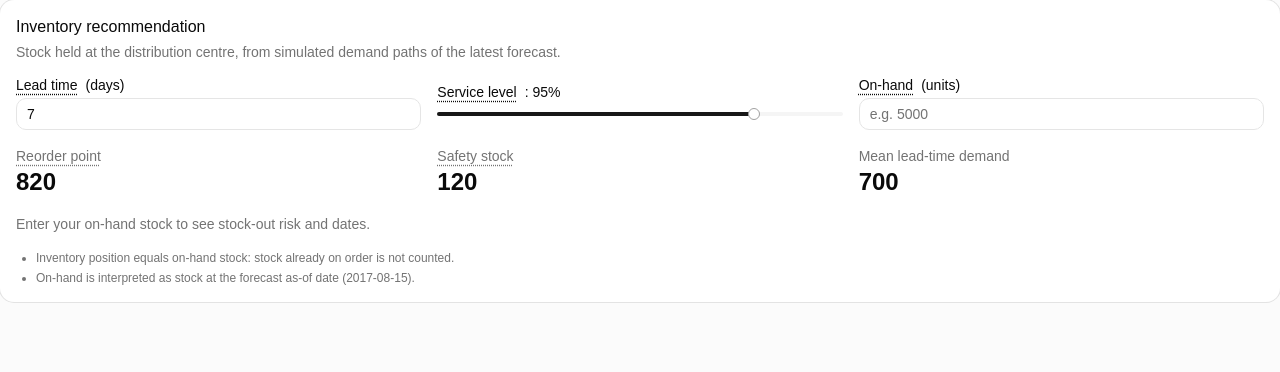
Test: InventoryPanel › requests risk once on-hand is entered and shows risk level, reorder-now and stock-out dates
Check: the text "820" is shown, box [16,168,56,195]
Type "300" into the number field labelled "On-hand (units)" at (1061, 114), box [859,98,1264,130]
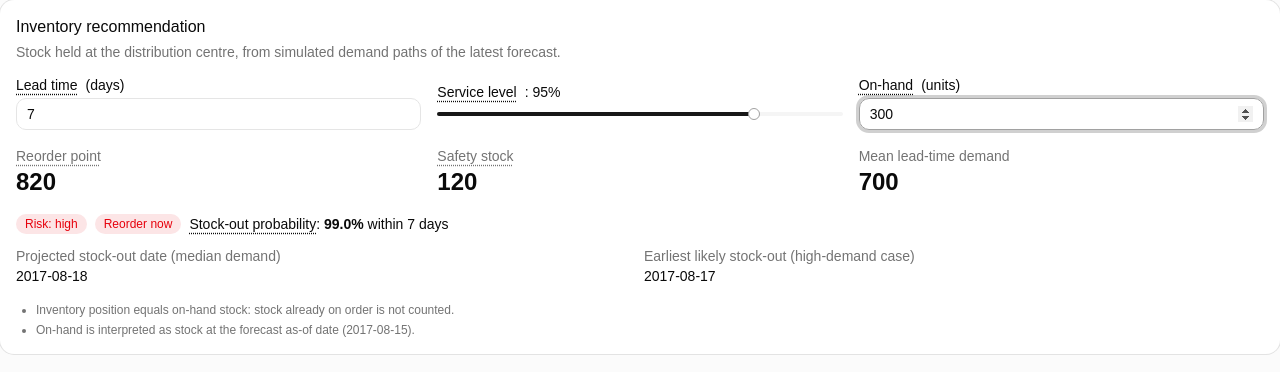
Check: the element with test id "risk-section" shows "Risk: high", box [25,217,78,231]
Check: the text with test id "reorder-now" reads "Reorder now", box [104,217,172,231]
Check: the text with test id "projected-date" reads "2017-08-18", box [16,268,88,284]
